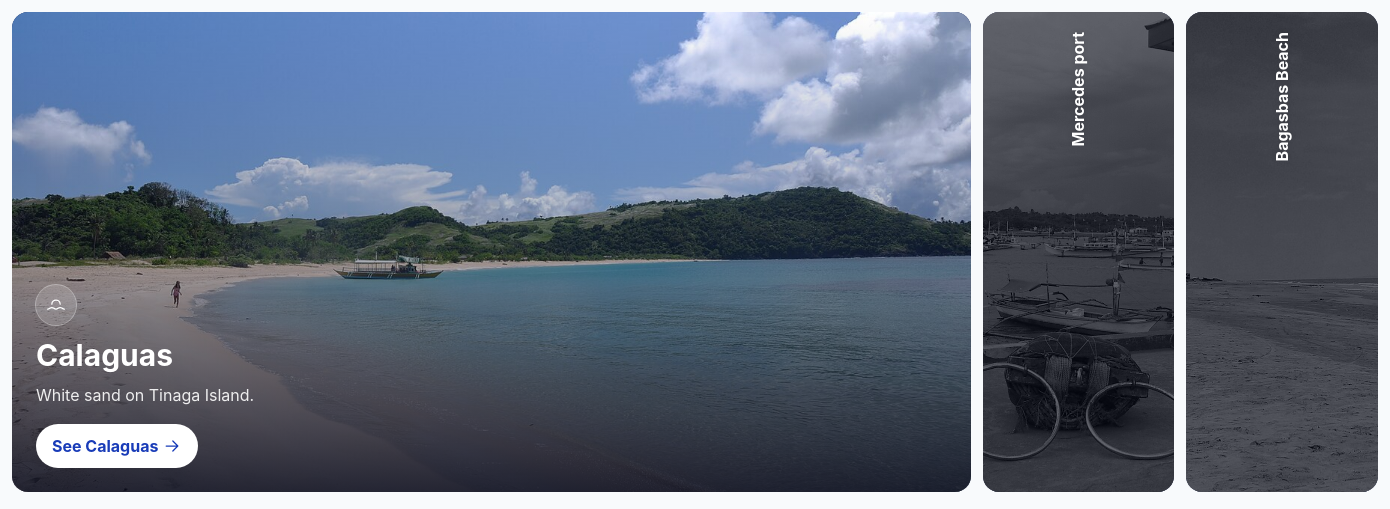
Test: PlacePanels › opens a place on tap and on mouse hover, but not on touch hover
Click the button "Bagasbas Beach" at (1282, 252), box [1186,12,1378,492]
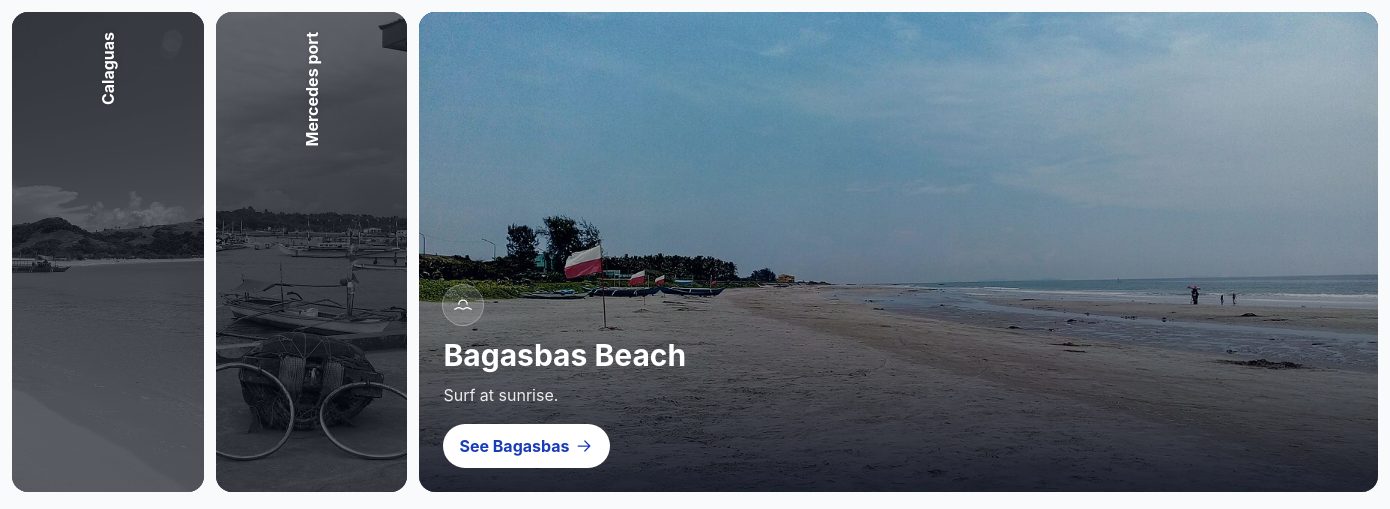
Now the button named "Bagasbas Beach" is expanded
Now the button "Calaguas" is collapsed, box [12,12,204,492]
Hover over the 2nd list item named "Mercedes port" at (312, 252), box [216,12,407,492]
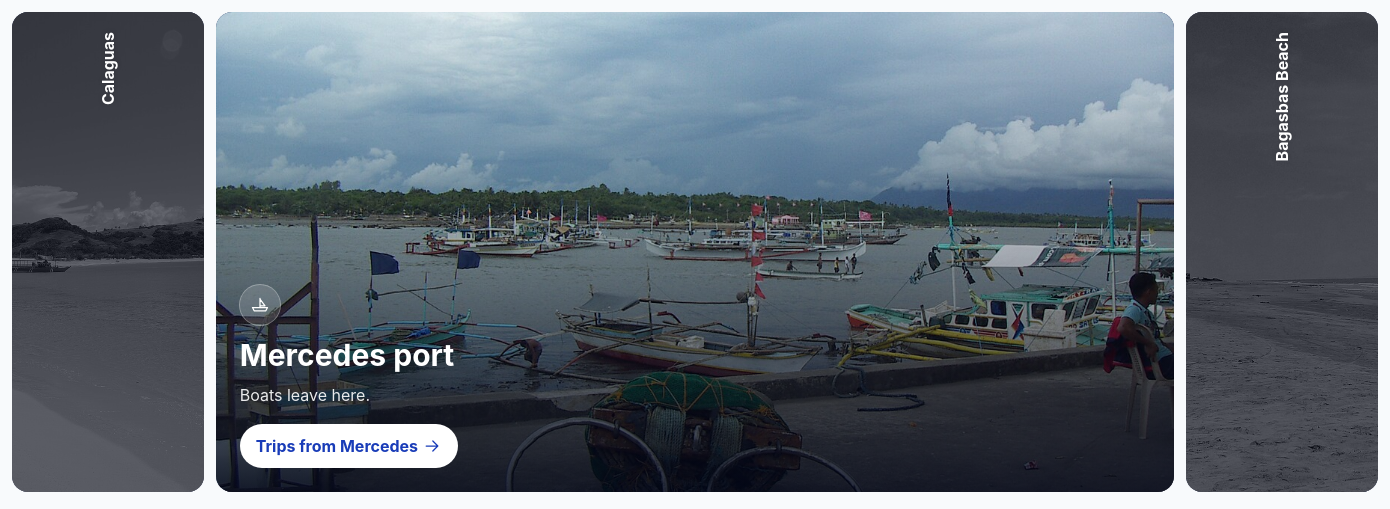
Now the button named "Mercedes port" is expanded
